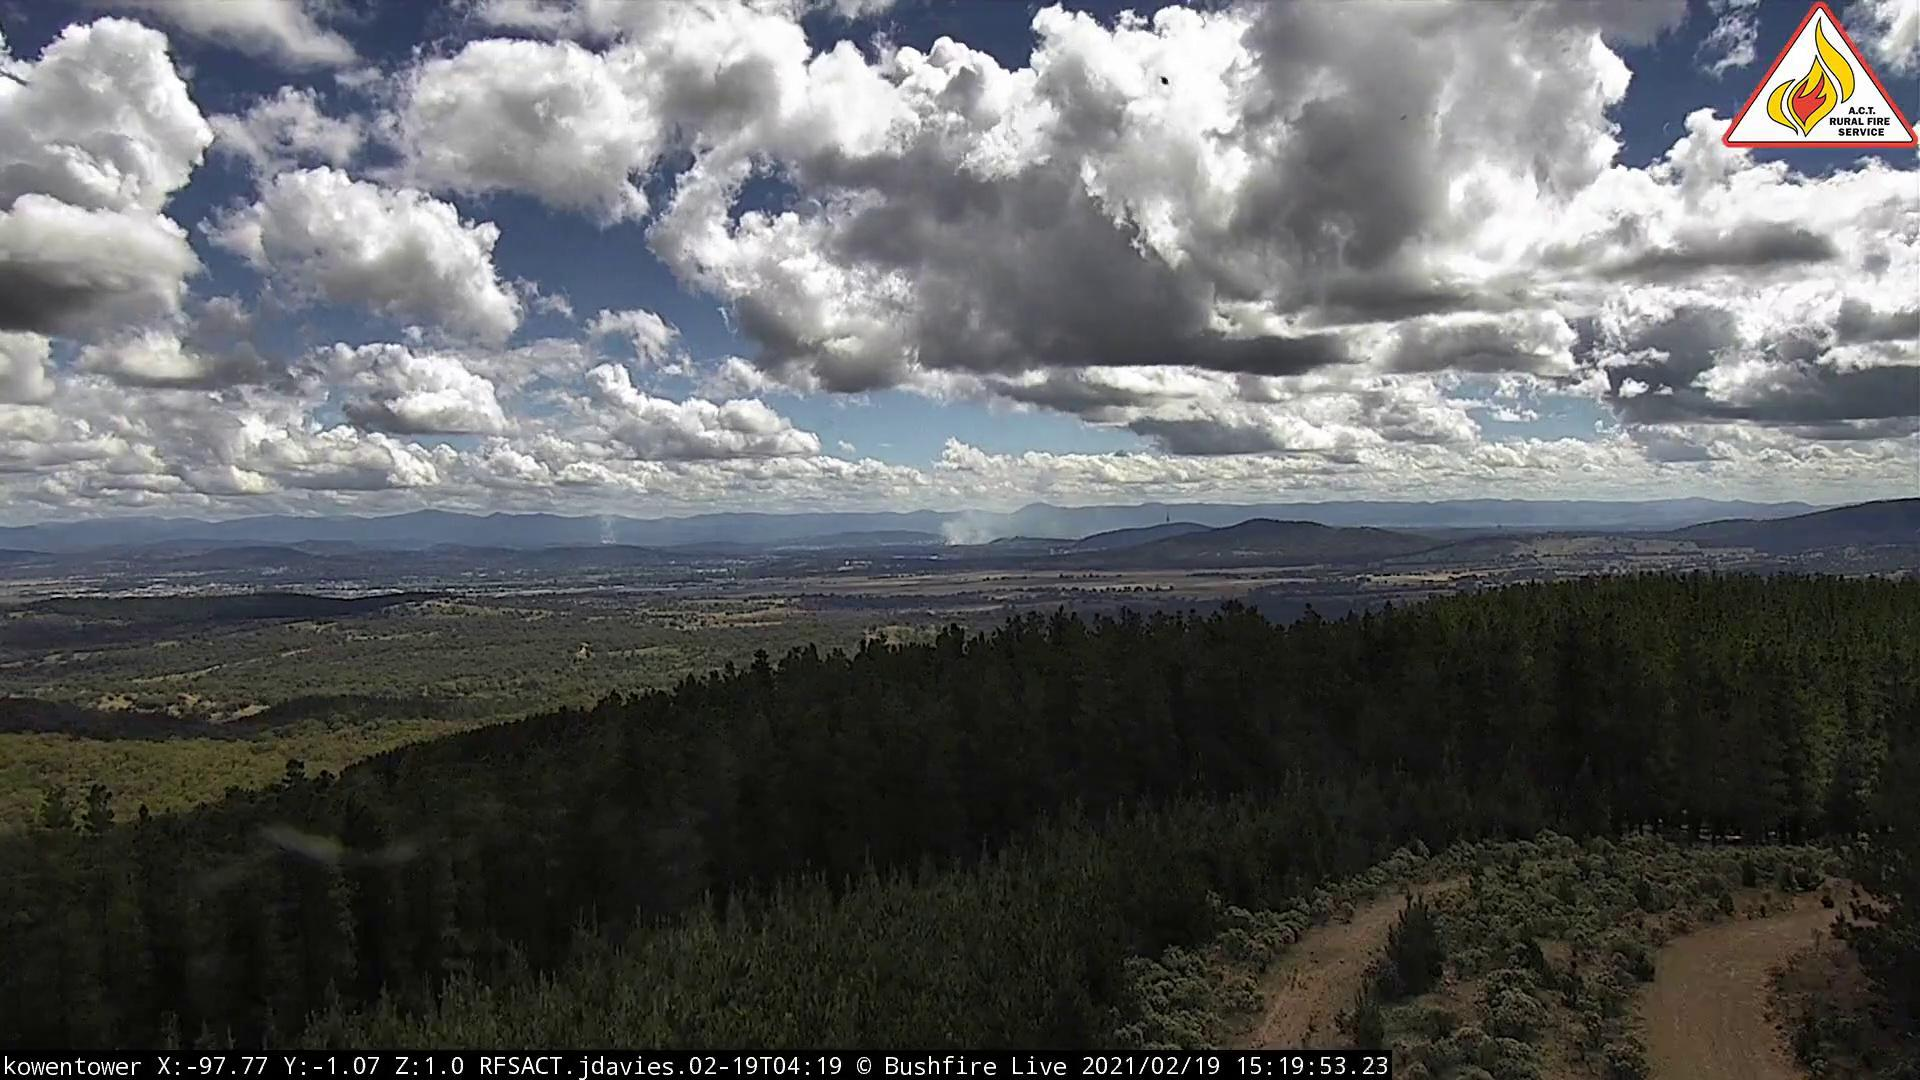Smoke: (939, 505, 1026, 551), (591, 513, 625, 550)
